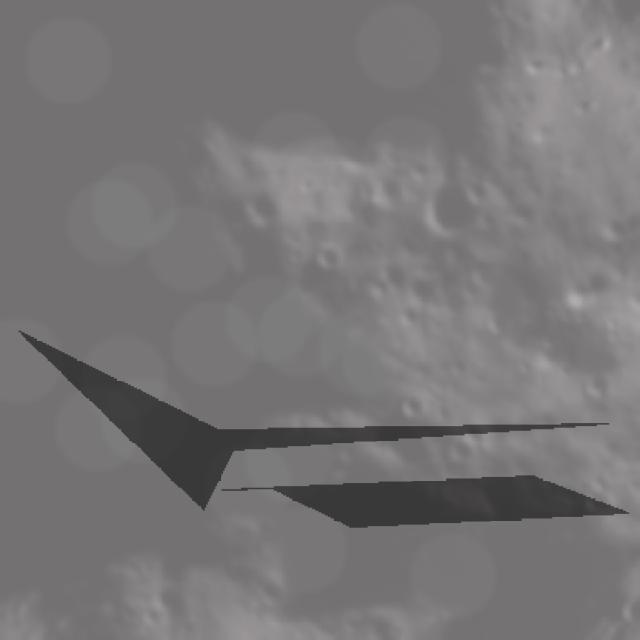crater: (416, 169, 490, 243), (438, 428, 484, 470), (301, 236, 348, 276), (572, 368, 612, 408), (402, 389, 431, 416)
